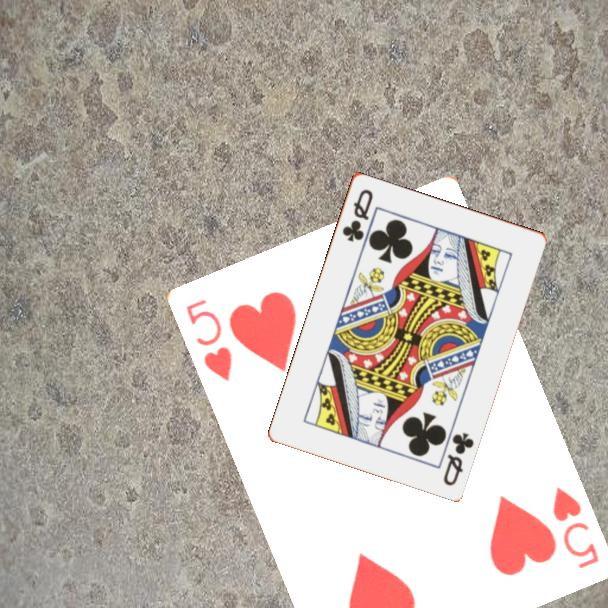c12: (439, 428, 477, 488), (339, 185, 376, 244)
h05: (182, 295, 235, 384), (548, 483, 601, 571)
